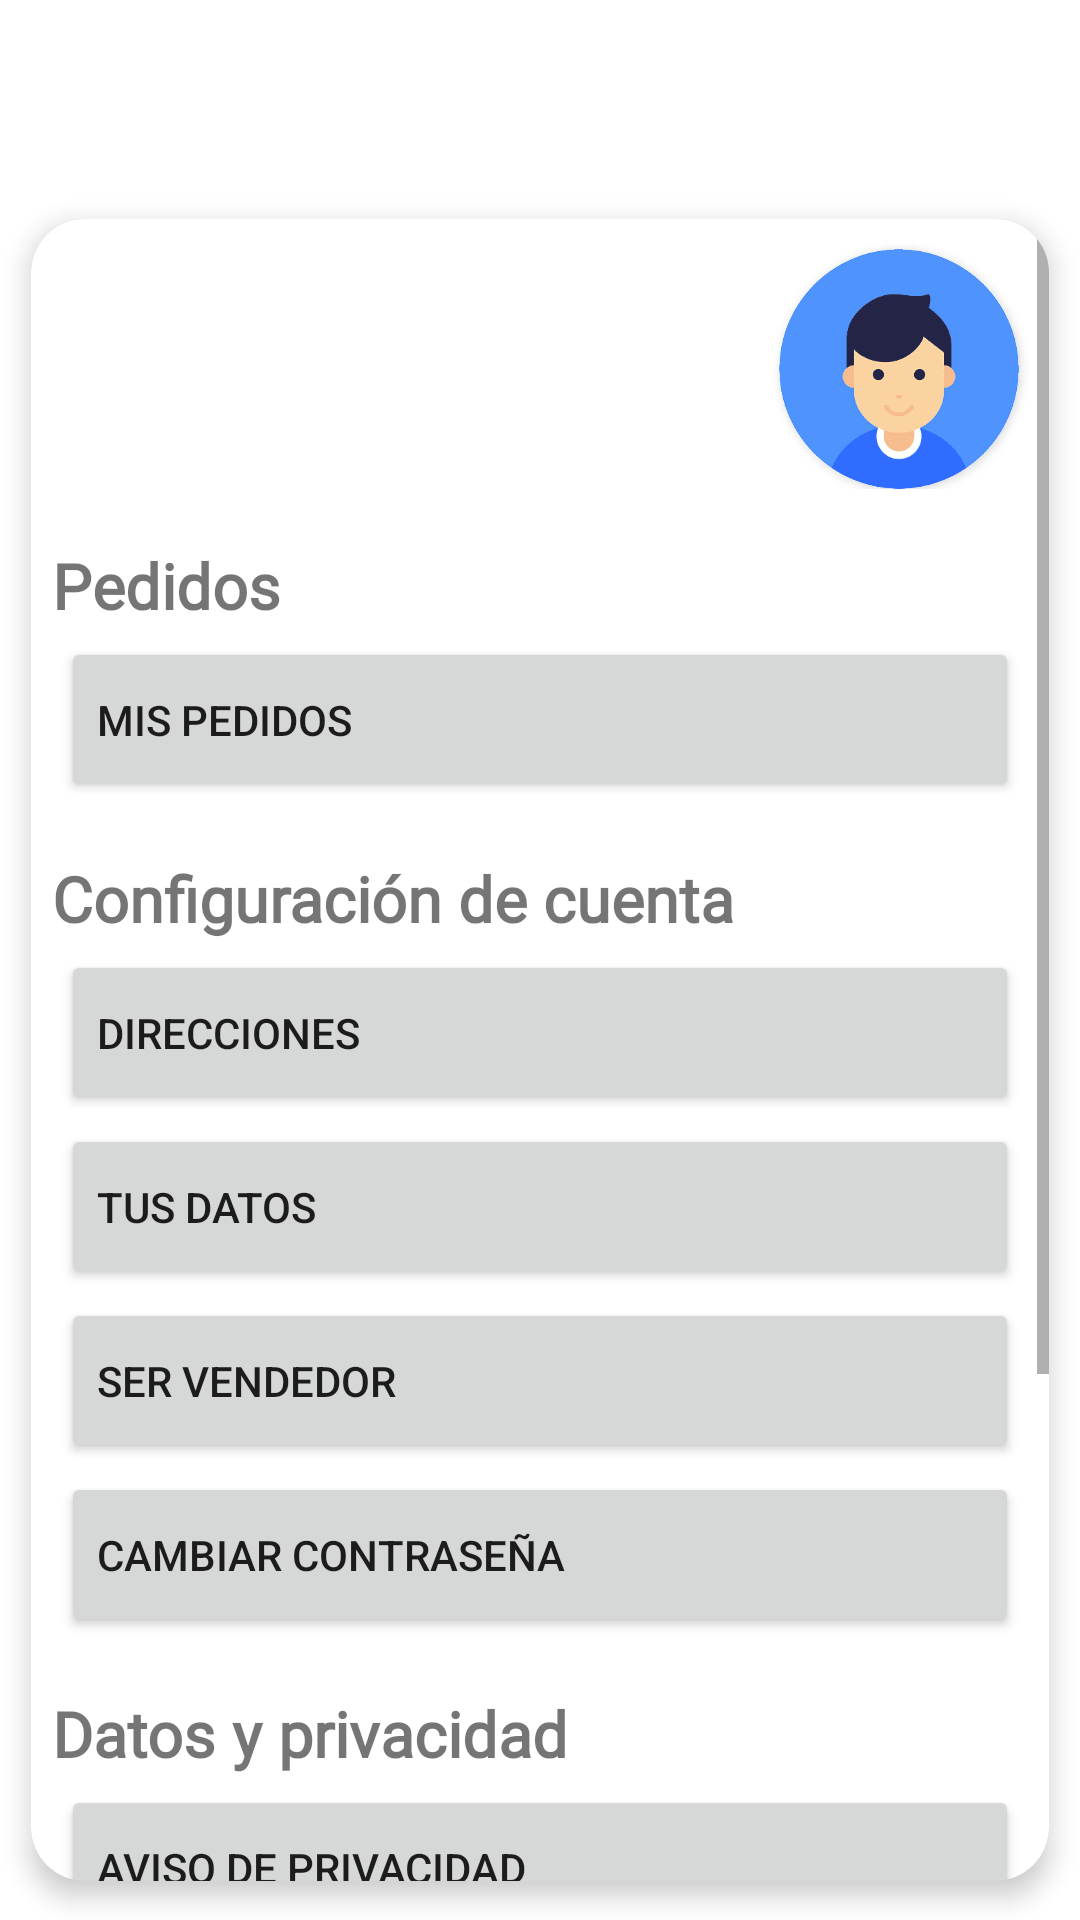

Screen size 1080 × 1920. Icon name, then its center in pixels as point (x, y):
usuario: point (899, 369)
